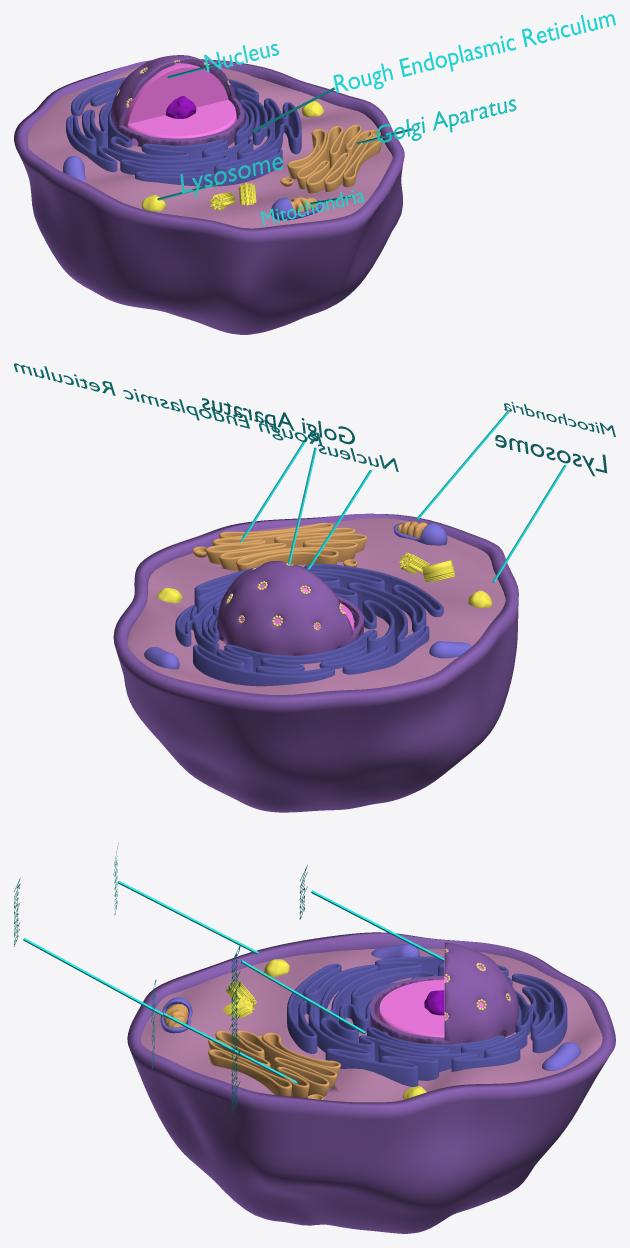
Rendered from animalCell.glb.
The picture shows the model from 3 angles, top to bottom: view 1: azimuth 30°, elevation 25°; view 2: azimuth 150°, elevation 25°; view 3: azimuth 270°, elevation 25°; orthographic projection. The views are drawn at different scales.
Visible parts, largest first — view 1: Sphere, Sphere.001, BezierCurve, Roundcube, BezierCurve.002, Icosphere, Text.004, Roundcube.000, Text.002, Sphere.002, Text.003, Text.001 (+2 smaller); view 2: Sphere, Sphere.001, BezierCurve, Icosphere, BezierCurve.002, Sphere.002, Text.004, Roundcube.000, Text.002, Text.003; view 3: Sphere, Sphere.001, BezierCurve, Icosphere, BezierCurve.002, Roundcube, Sphere.002, Roundcube.000, Text.004, BezierCurve.003, BezierCurve.005, BezierCurve.001.
Part boxes in pixels (box(x1,y1,x2,y2)): Sphere: box(14, 59, 404, 334); Sphere.001: box(27, 66, 392, 228); BezierCurve: box(66, 77, 301, 186); Roundcube: box(123, 63, 236, 145); BezierCurve.002: box(280, 124, 382, 193); Icosphere: box(110, 55, 244, 146); Text.004: box(333, 14, 615, 93); Roundcube.000: box(141, 101, 323, 211); Text.002: box(376, 99, 516, 142); Sphere.002: box(63, 156, 322, 220); Text.003: box(180, 157, 282, 197); Text.001: box(261, 190, 364, 225); Sphere: box(113, 513, 518, 812); Sphere.001: box(127, 518, 505, 694); BezierCurve: box(175, 563, 443, 686); Icosphere: box(216, 561, 364, 655); BezierCurve.002: box(192, 522, 367, 571); Sphere.002: box(144, 522, 471, 669); Text.004: box(14, 363, 321, 444); Roundcube.000: box(156, 552, 492, 608); Text.002: box(202, 398, 354, 444); Text.003: box(495, 435, 607, 476); Sphere: box(127, 932, 615, 1233); Sphere.001: box(141, 948, 602, 1102); BezierCurve: box(287, 956, 567, 1086); Icosphere: box(370, 942, 518, 1044); BezierCurve.002: box(208, 1030, 340, 1099); Roundcube: box(378, 952, 507, 1037); Sphere.002: box(160, 944, 580, 1070); Roundcube.000: box(222, 959, 426, 1099); Text.004: box(229, 945, 240, 1114); BezierCurve.003: box(23, 938, 163, 1016); BezierCurve.005: box(118, 880, 258, 954); BezierCurve.001: box(311, 890, 444, 961).
Bounding box in the file's own units: 9.32 × 5.05 × 8.68.
